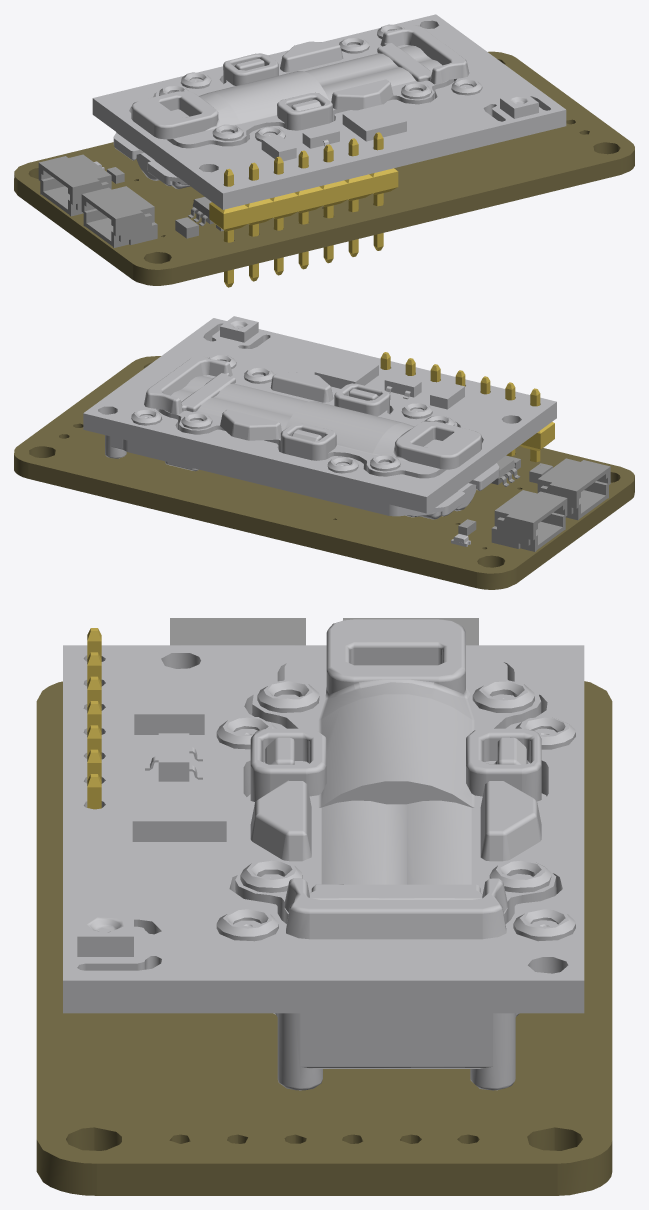
The model's file is ada-4867.glb.
3 renders of one model, top to bottom at view 1: azimuth 30°, elevation 25°; view 2: azimuth 150°, elevation 25°; view 3: azimuth 270°, elevation 25°, orthographic. The views are drawn at different scales.
Parts seen in each view (by area): view 1: 0.5833333333333334_0.5833333333333334_0.5833333333333334_0.8, 0.16666666666666666_0.16666666666666666_0.08333333333333333_, 0.3333333333333333_0.3333333333333333_0.3333333333333333_0, 0.5833333333333334_0.4166666666666667_0.08333333333333333_0; view 2: 0.5833333333333334_0.5833333333333334_0.5833333333333334_0.8, 0.16666666666666666_0.16666666666666666_0.08333333333333333_, 0.3333333333333333_0.3333333333333333_0.3333333333333333_0, 0.5833333333333334_0.4166666666666667_0.08333333333333333_0; view 3: 0.5833333333333334_0.5833333333333334_0.5833333333333334_0.8, 0.16666666666666666_0.16666666666666666_0.08333333333333333_, 0.3333333333333333_0.3333333333333333_0.3333333333333333_0, 0.5833333333333334_0.4166666666666667_0.08333333333333333_0.
Part boxes in pixels (x1,y1,x2,y2): 0.5833333333333334_0.5833333333333334_0.5833333333333334_0.8: (92, 14, 566, 209); 0.16666666666666666_0.16666666666666666_0.08333333333333333_: (14, 51, 634, 285); 0.3333333333333333_0.3333333333333333_0.3333333333333333_0: (38, 154, 223, 247); 0.5833333333333334_0.4166666666666667_0.08333333333333333_0: (209, 132, 398, 287); 0.5833333333333334_0.5833333333333334_0.5833333333333334_0.8: (83, 316, 556, 546); 0.16666666666666666_0.16666666666666666_0.08333333333333333_: (14, 356, 634, 589); 0.3333333333333333_0.3333333333333333_0.3333333333333333_0: (458, 455, 610, 551); 0.5833333333333334_0.4166666666666667_0.08333333333333333_0: (380, 352, 554, 462); 0.5833333333333334_0.5833333333333334_0.5833333333333334_0.8: (63, 619, 584, 1090); 0.16666666666666666_0.16666666666666666_0.08333333333333333_: (36, 681, 612, 1195); 0.3333333333333333_0.3333333333333333_0.3333333333333333_0: (170, 618, 478, 645); 0.5833333333333334_0.4166666666666667_0.08333333333333333_0: (87, 628, 101, 809).
Bounding box in the file's own units: 5.08 × 1.15 × 2.54.
